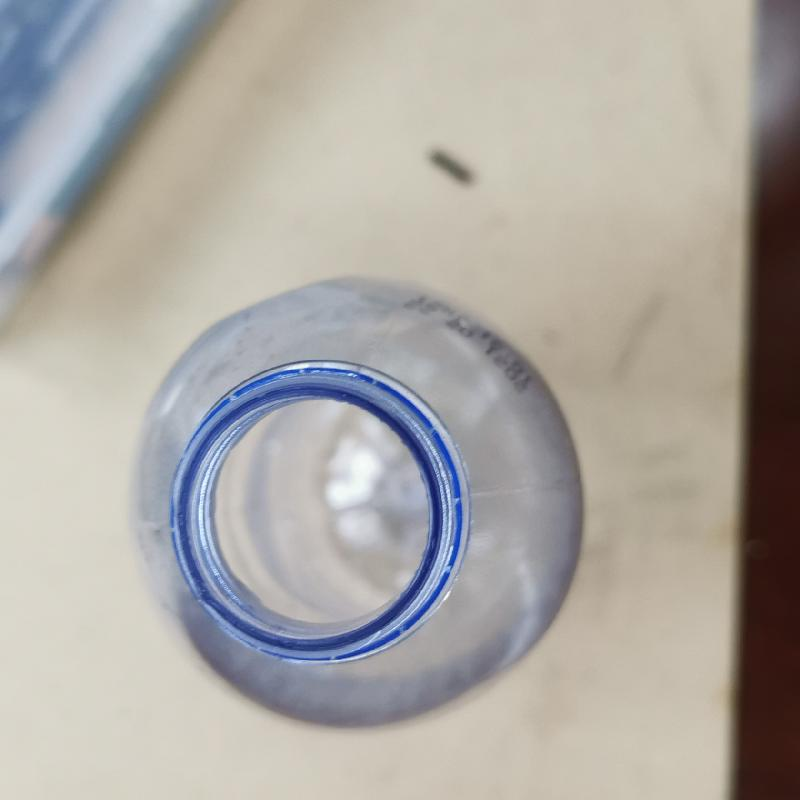bottles: (113, 272, 589, 732)
